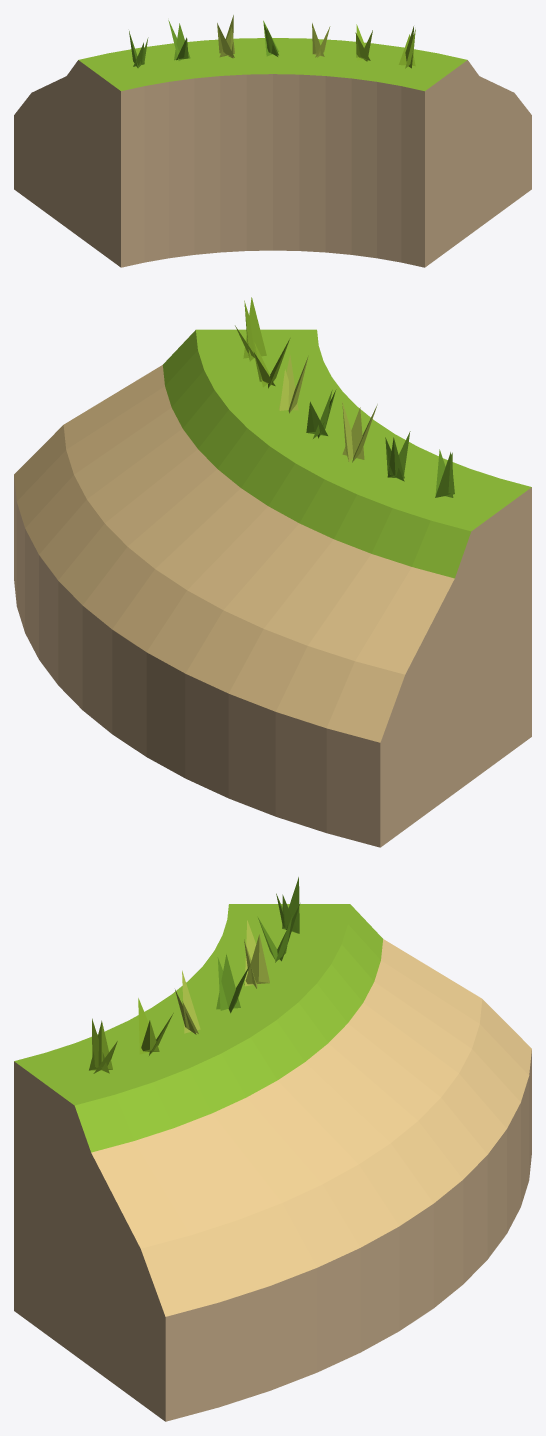
Rendered from margem-convexa.glb.
3 views of the same model, one above another, from view 1: azimuth 30°, elevation 25°; view 2: azimuth 150°, elevation 25°; view 3: azimuth 270°, elevation 25° (orthographic). The views are drawn at different scales.
Parts seen in each view (by area): view 1: margem-convexa; view 2: margem-convexa; view 3: margem-convexa.
Boxes of the visible parts, bbox=[...] form: margem-convexa: bbox=[14, 15, 531, 267]; margem-convexa: bbox=[14, 297, 531, 847]; margem-convexa: bbox=[14, 877, 531, 1421].
Size of the model in its own units: 1.15 by 0.6115 by 0.94.
